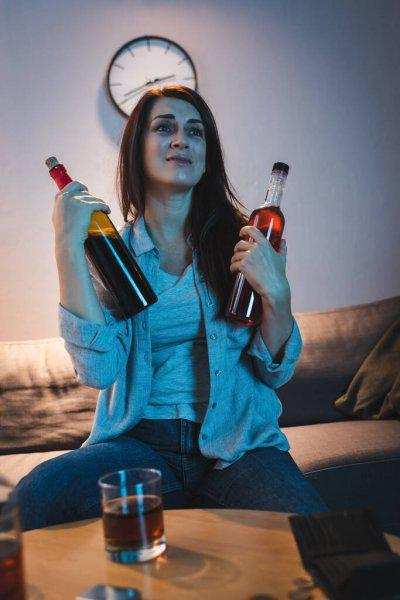Drunk: (147, 97, 212, 188)
